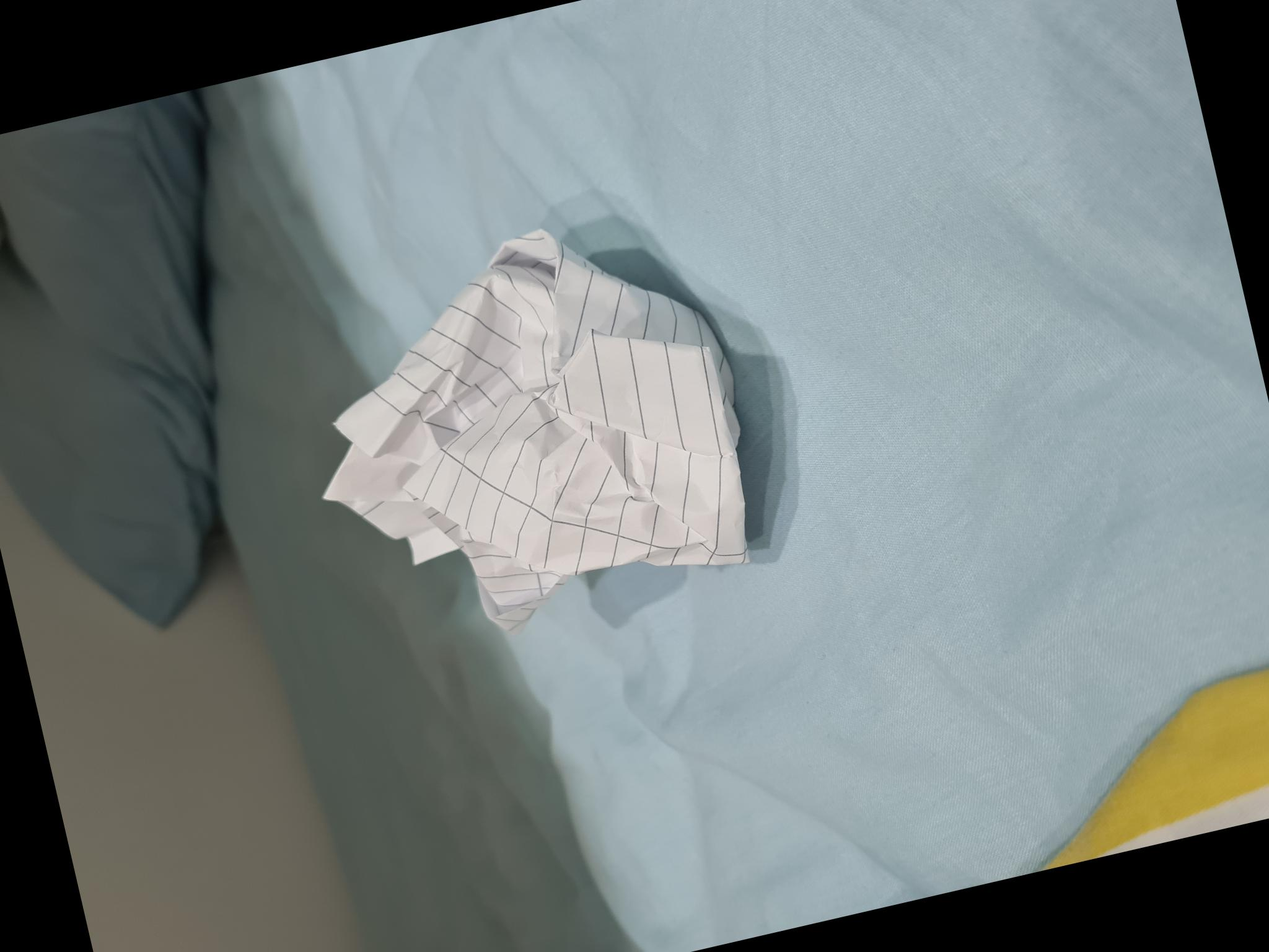Kertas: (360, 361, 757, 778)
